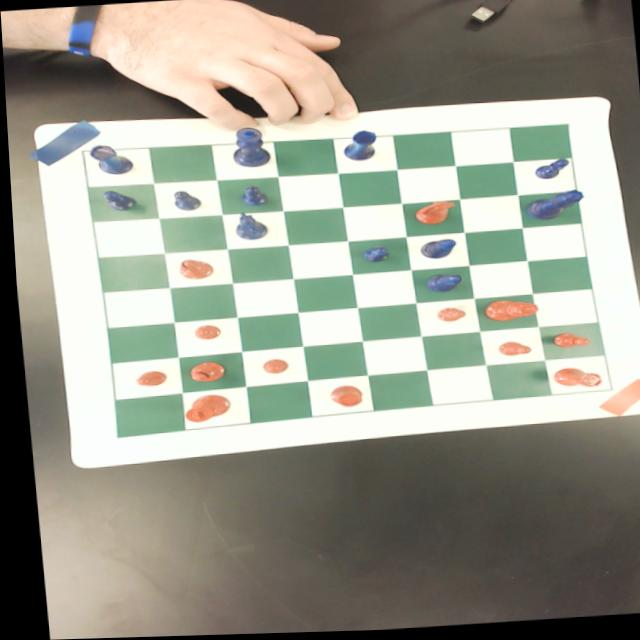B: (415, 241, 453, 263), (420, 275, 458, 295)
K: (226, 128, 268, 170)
N: (229, 210, 266, 243)
P: (97, 189, 135, 213), (529, 162, 567, 183), (168, 189, 201, 213), (235, 186, 266, 207), (356, 247, 386, 266)
Q: (521, 192, 583, 223)
R: (85, 143, 132, 176), (339, 132, 376, 164)
b: (183, 362, 221, 385), (174, 259, 210, 282)
k: (177, 395, 225, 425)
n: (409, 202, 454, 228)
p: (545, 334, 587, 352), (127, 371, 163, 388), (492, 343, 528, 359), (430, 308, 462, 325), (256, 359, 284, 376), (189, 325, 217, 341)
q: (479, 300, 535, 326)
r: (545, 369, 598, 393), (321, 387, 358, 410)
